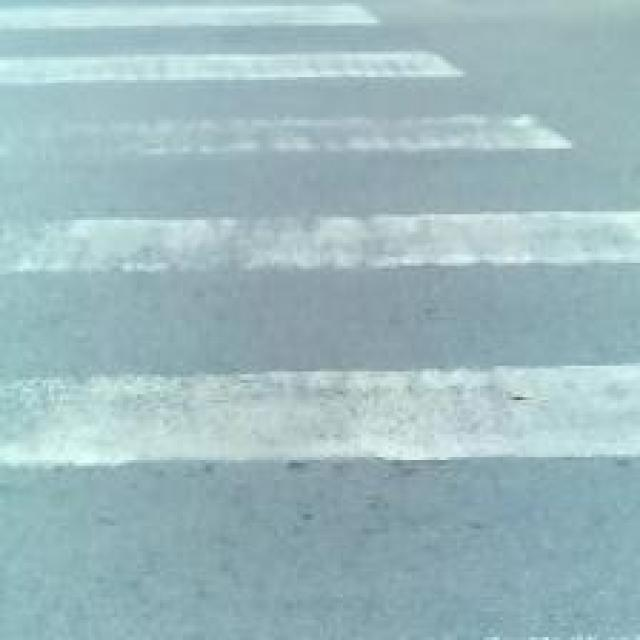zebra: (8, 12, 566, 574)
